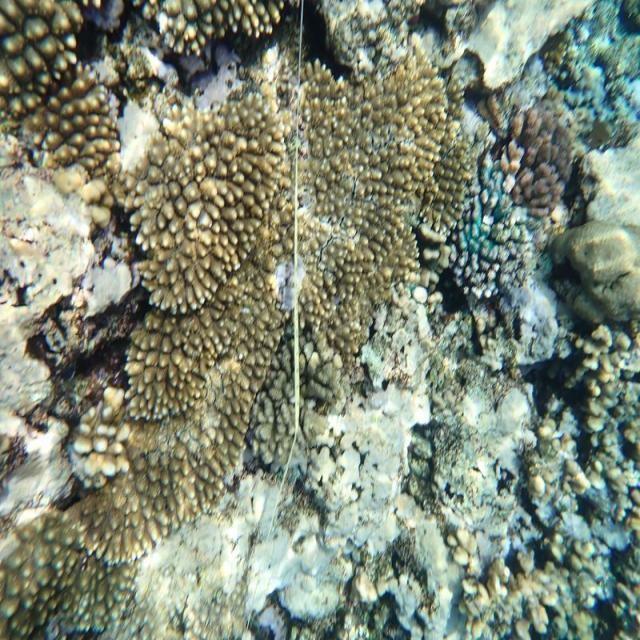Bleached Coral: (307, 323, 437, 569), (228, 512, 358, 640)
Healthy Coral: (120, 118, 286, 469), (294, 70, 481, 316), (493, 109, 581, 217)
